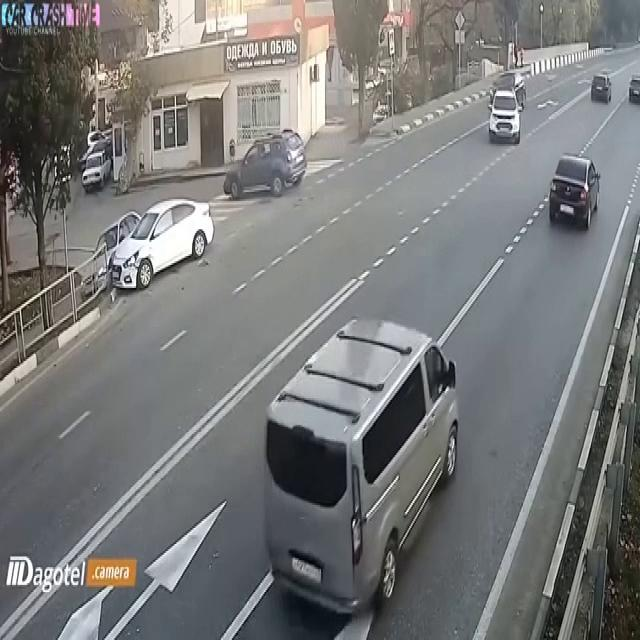accident: (75, 208, 188, 292)
